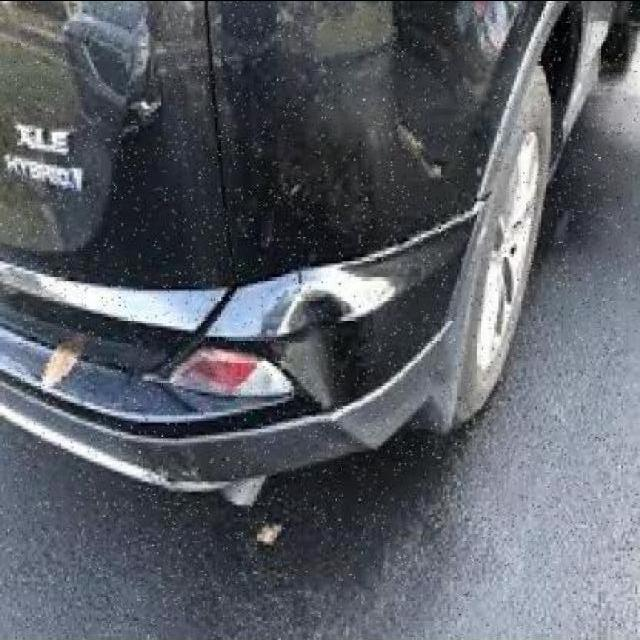rear-bumper-dent: (1, 274, 485, 473)
